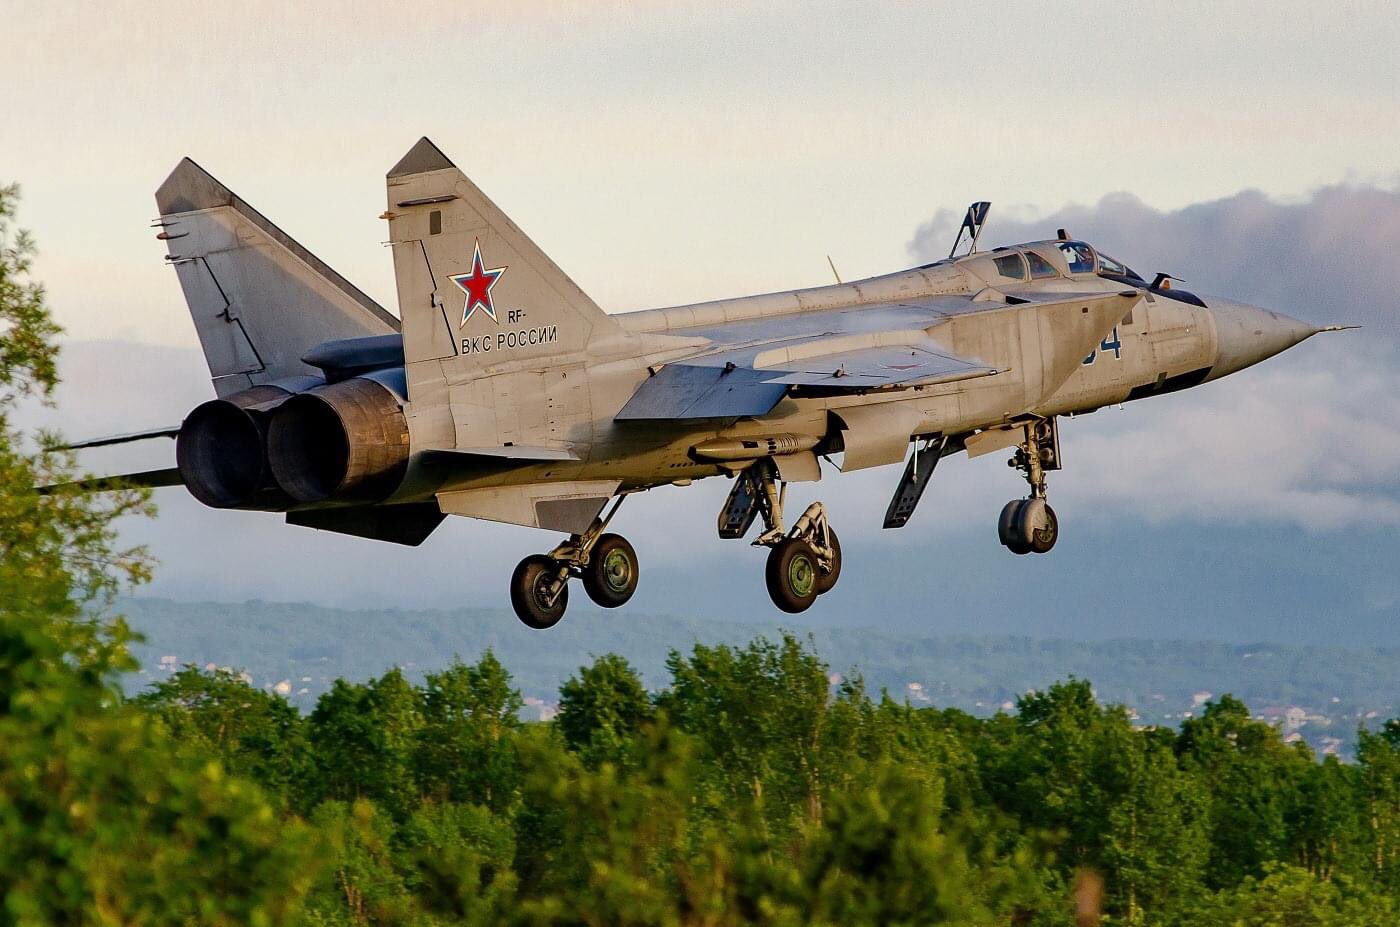airplane: (11, 136, 1363, 630)
